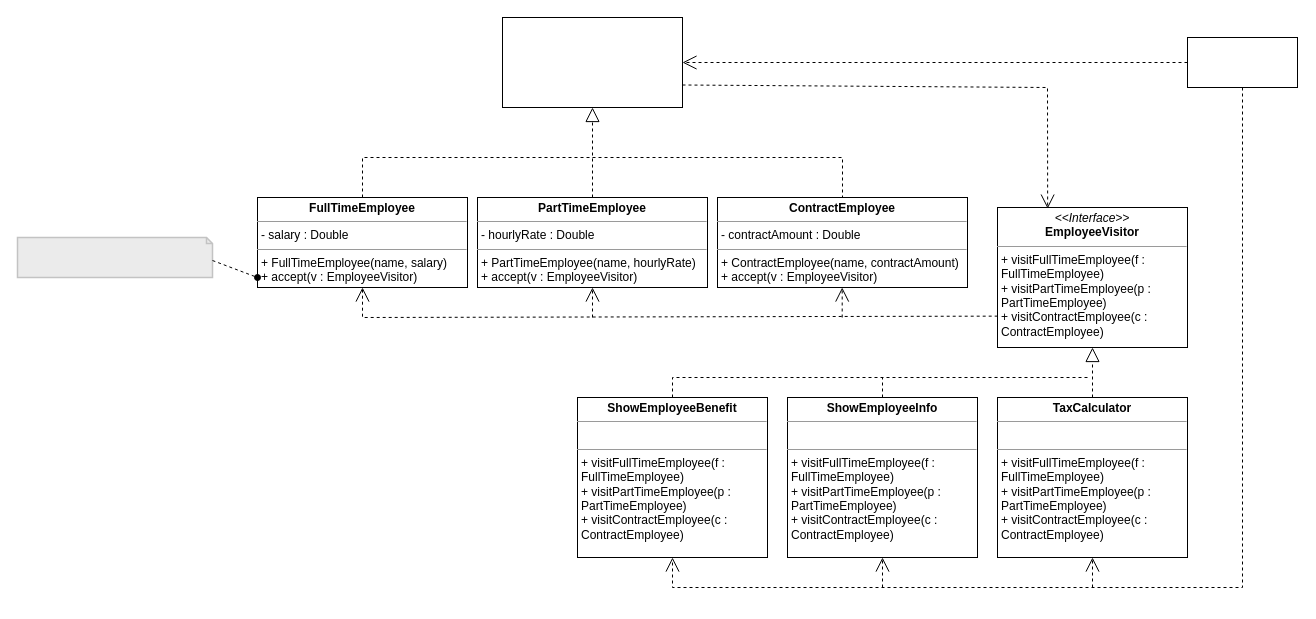
Some shapes in this 1316 by 619 pixel diagram are drawn without their labels. The centre of each missing label's shape, as x and y in pixels:
"Client" goes at [1242,62].
"Employee - name : String + Employee(name) + accept(v : EmployeeVisitor)" goes at [592,62].
"v.visitFullTimeEmployee(self)" goes at [114,257].
